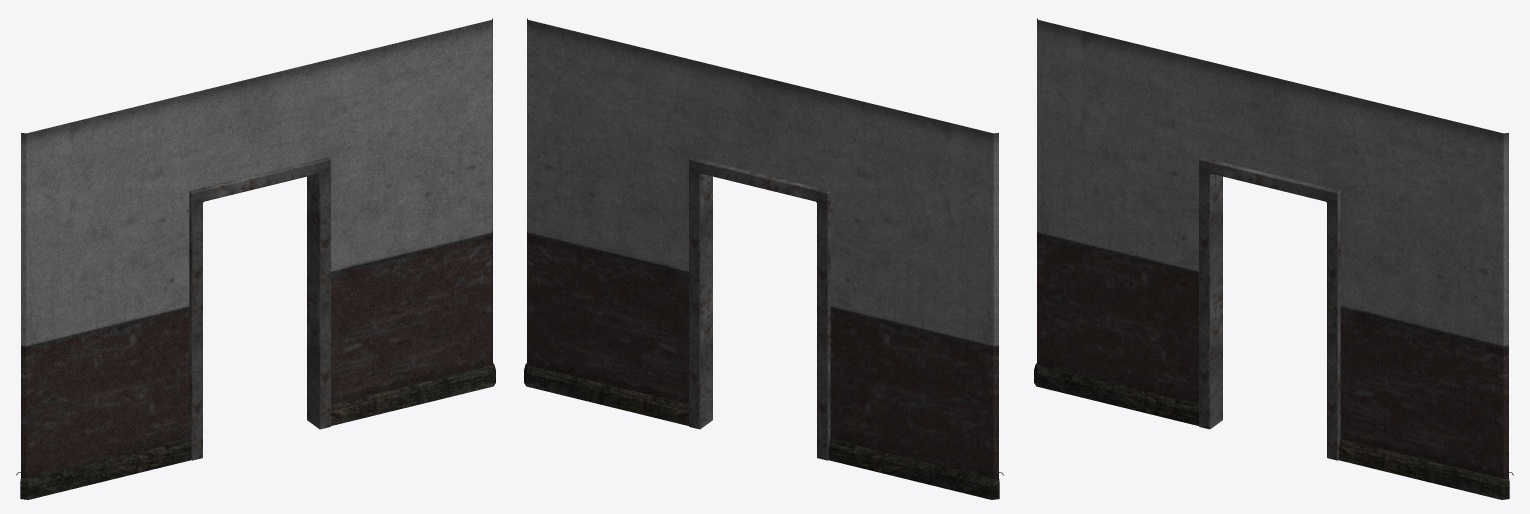
3 views of the same model, side by side, from view 1: azimuth 30°, elevation 25°; view 2: azimuth 150°, elevation 25°; view 3: azimuth 330°, elevation 25° (orthographic).
Visible parts, largest first — view 1: doorway_1; view 2: doorway_1; view 3: doorway_1.
Part boxes in pixels (x1,y1,x2,y2): doorway_1: [16, 18, 495, 499]; doorway_1: [524, 18, 1003, 499]; doorway_1: [1034, 18, 1513, 499].
Size of the model in its own units: 4.09 by 3 by 0.2.
4 materials, 4 textured.
